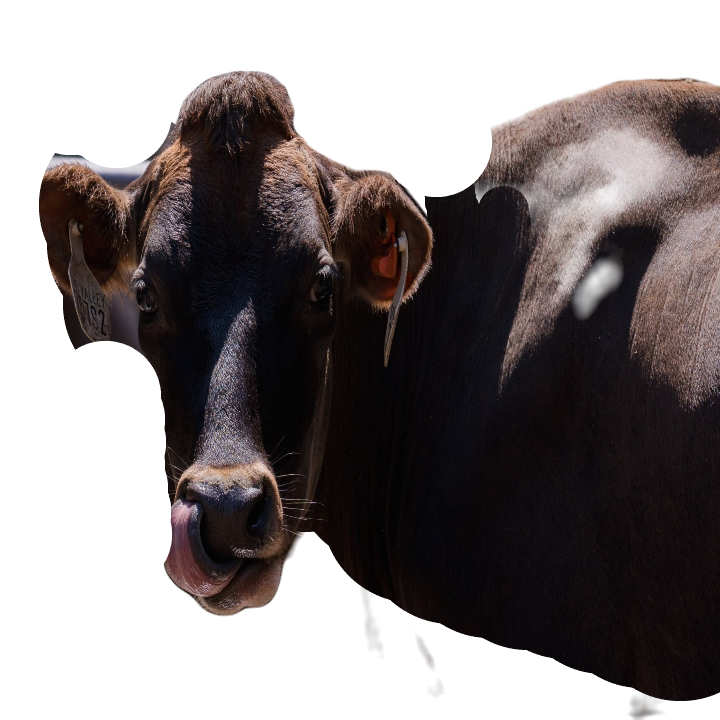Cow: (32, 69, 719, 709)
